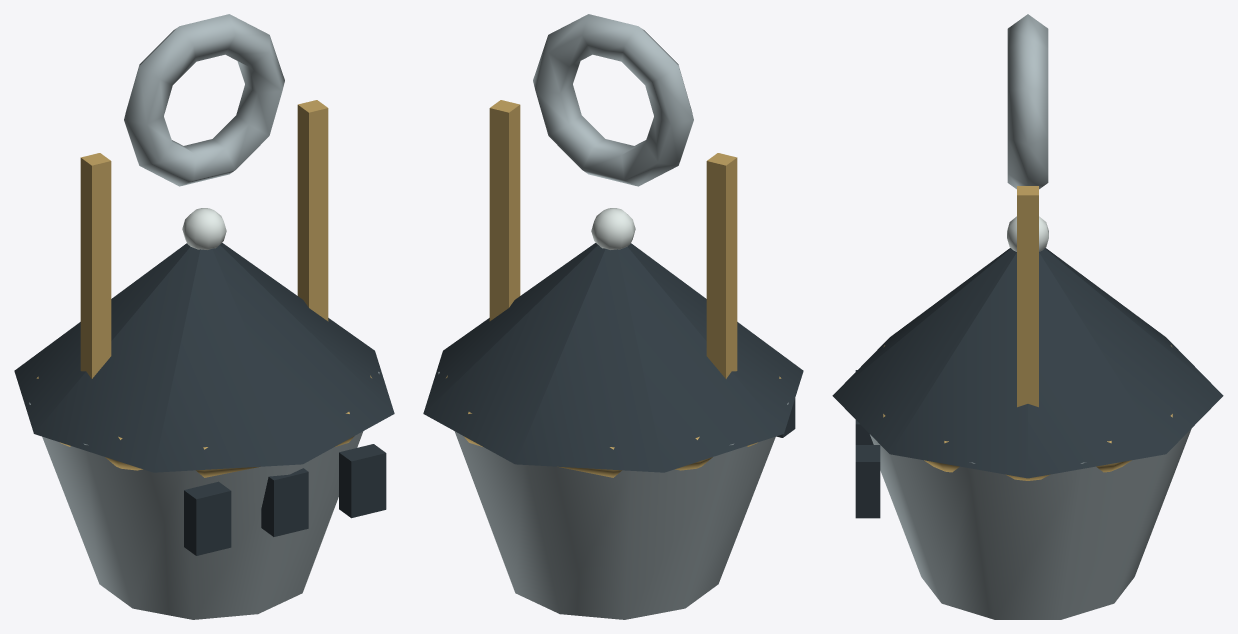
File: fixed-silverCenser.glb
3 renders of one model, left to right at view 1: azimuth 30°, elevation 25°; view 2: azimuth 150°, elevation 25°; view 3: azimuth 270°, elevation 25°, orthographic.
Visible parts, largest first — view 1: piece_whole; view 2: piece_whole; view 3: piece_whole.
Part boxes in pixels (left/top/right/bottom): piece_whole: left=14, top=14, right=394, bottom=619; piece_whole: left=423, top=14, right=803, bottom=619; piece_whole: left=832, top=14, right=1223, bottom=619.
Size of the model in its own units: 0.44 by 0.6839 by 0.44.
